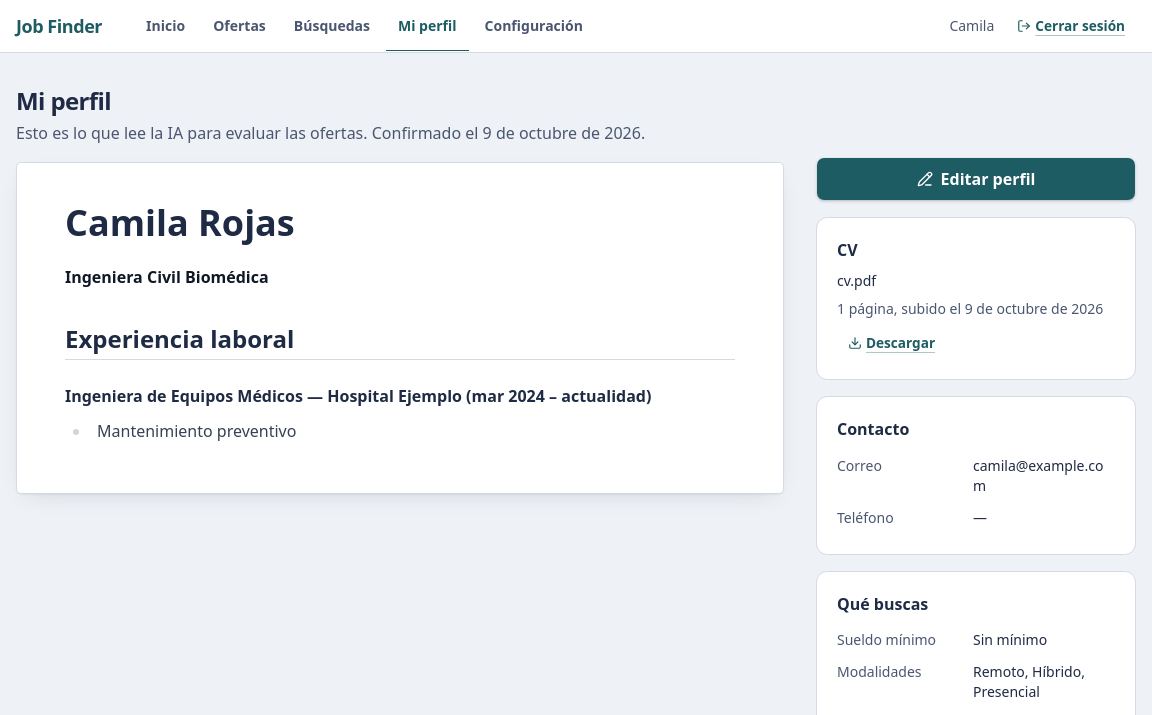
Test: Mi perfil: confirmado › muestra el perfil y permite editarlo a mano recorriendo el wizard
Check: the heading "Camila Rojas" is shown, box [65, 198, 295, 247]
Step 1. Click the button "Editar perfil" → (976, 179), box [816, 157, 1136, 201]
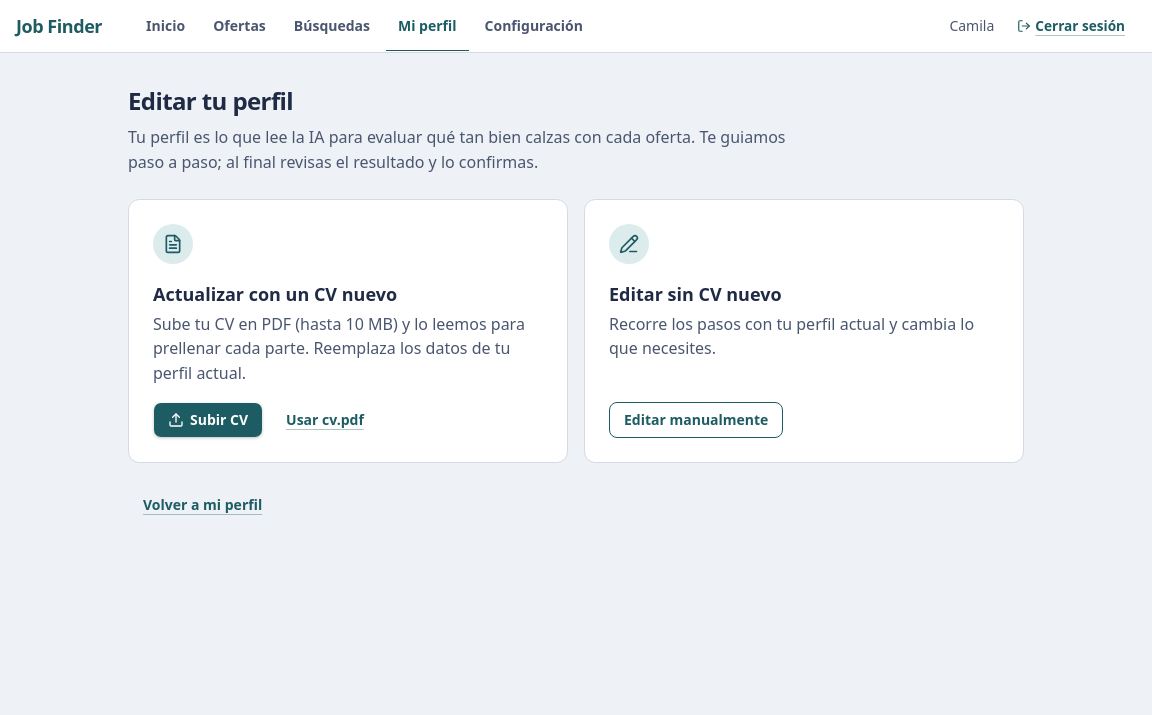
Check: the heading "Editar tu perfil" is shown, box [128, 84, 293, 117]
Step 2. Click the button "Editar manualmente" → (696, 420), box [609, 402, 783, 438]
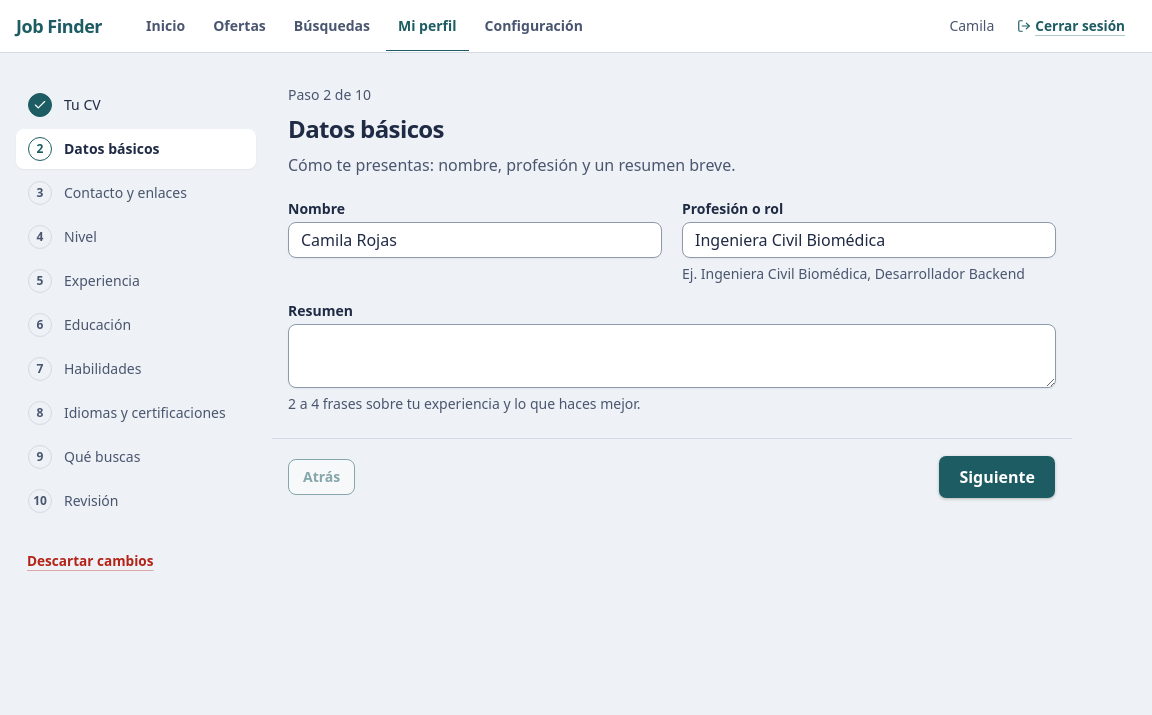
Check: the heading "Datos básicos" is shown, box [288, 112, 444, 145]
